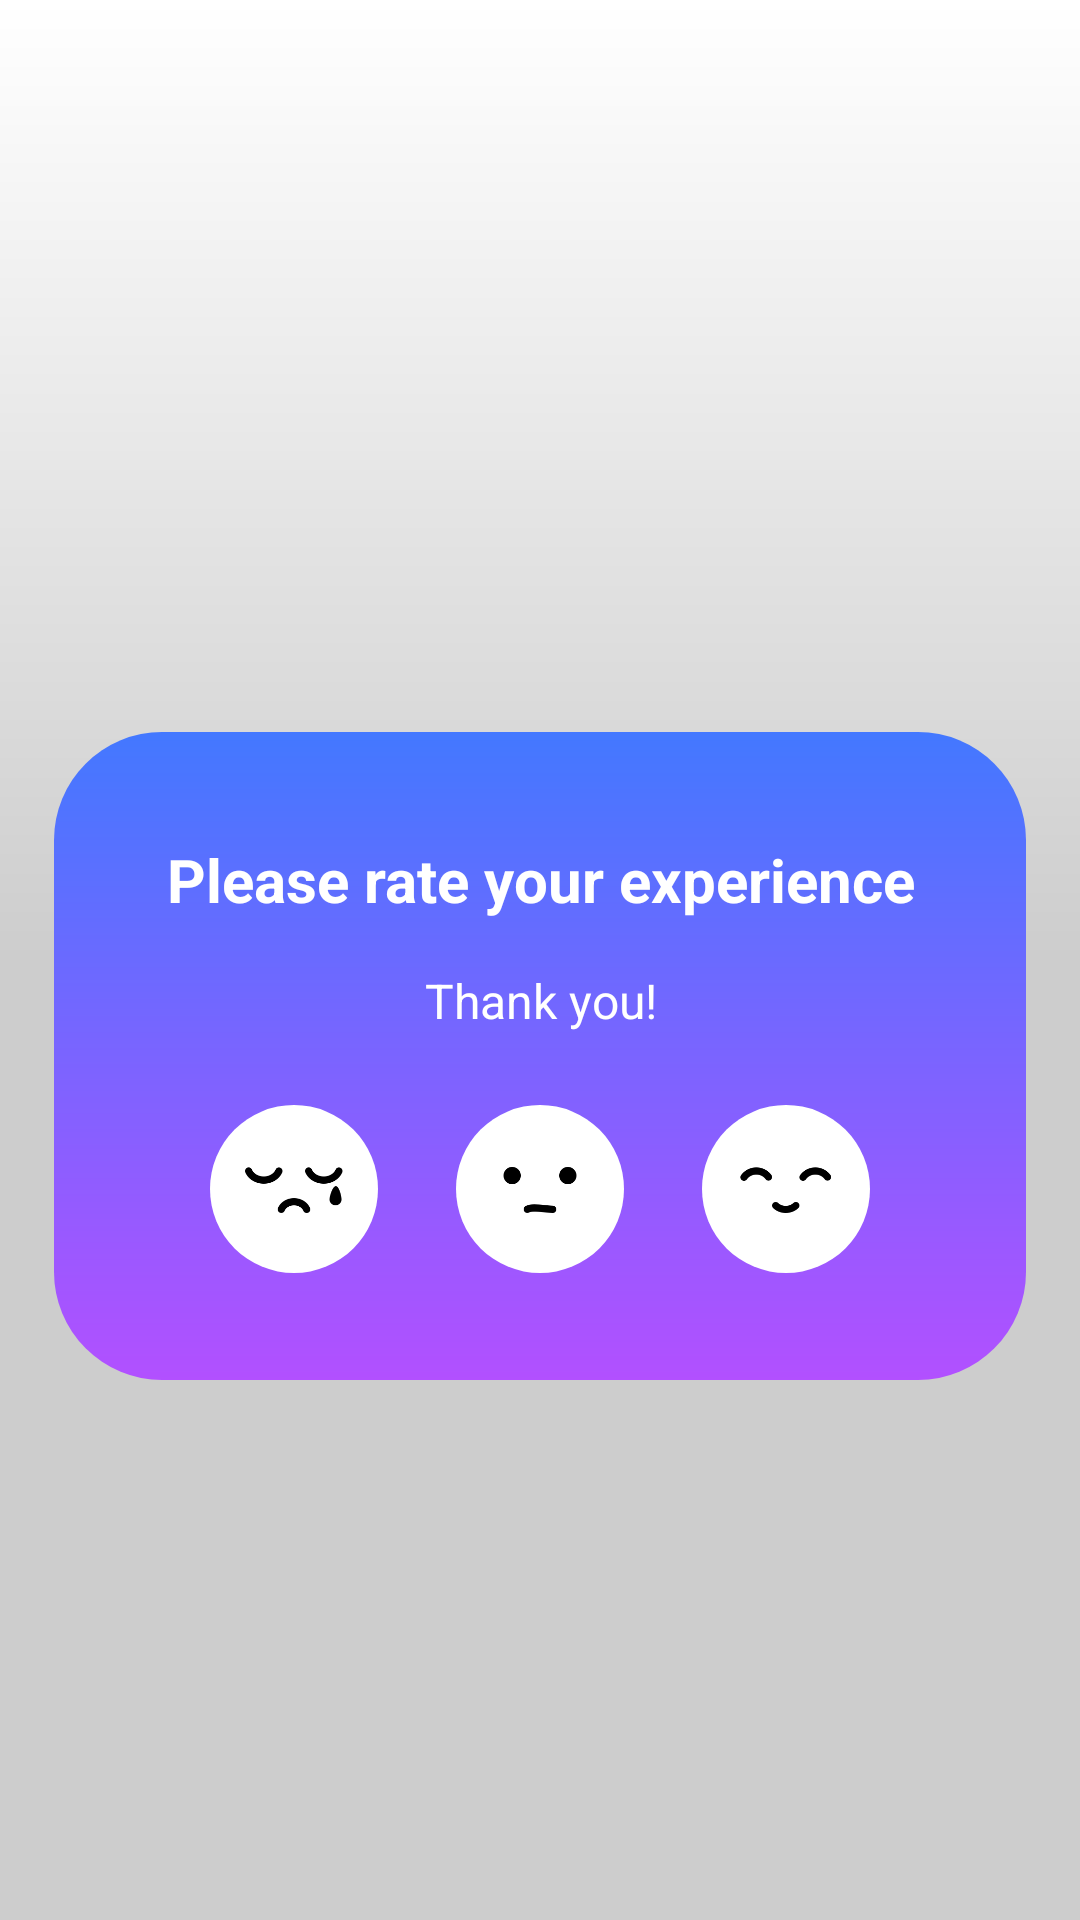

Icons on this 1080px x 1920px Android screen, each with the point to tap as (x,y):
happy: (786,1189)
sad: (294,1189)
